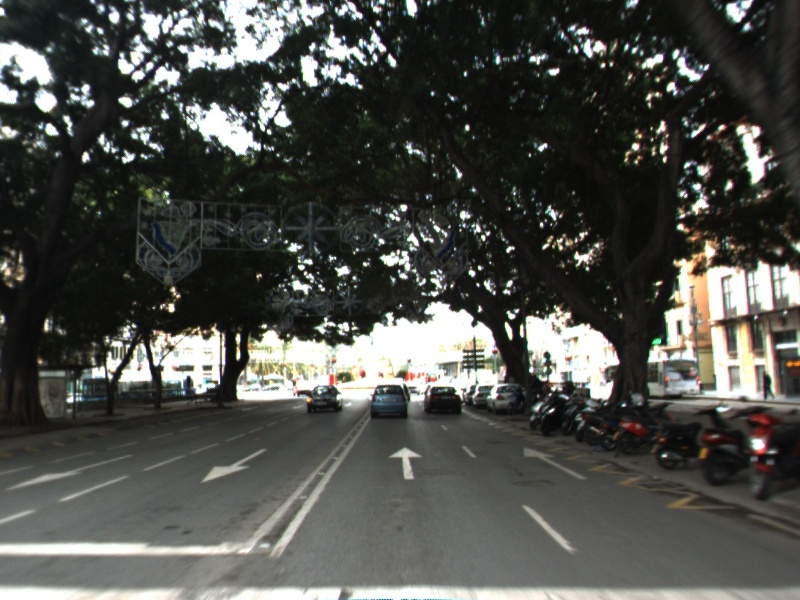STRAIGHT: (521, 445, 589, 481), (386, 445, 425, 481)
